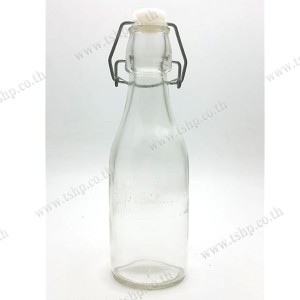glass_bottle: (100, 5, 199, 293)
